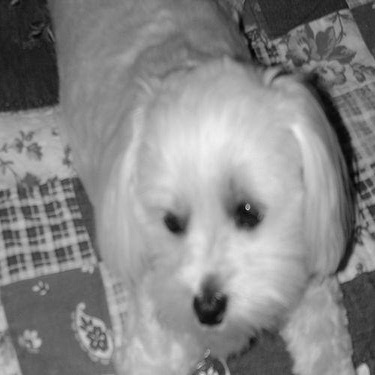dog: (37, 1, 364, 371)
